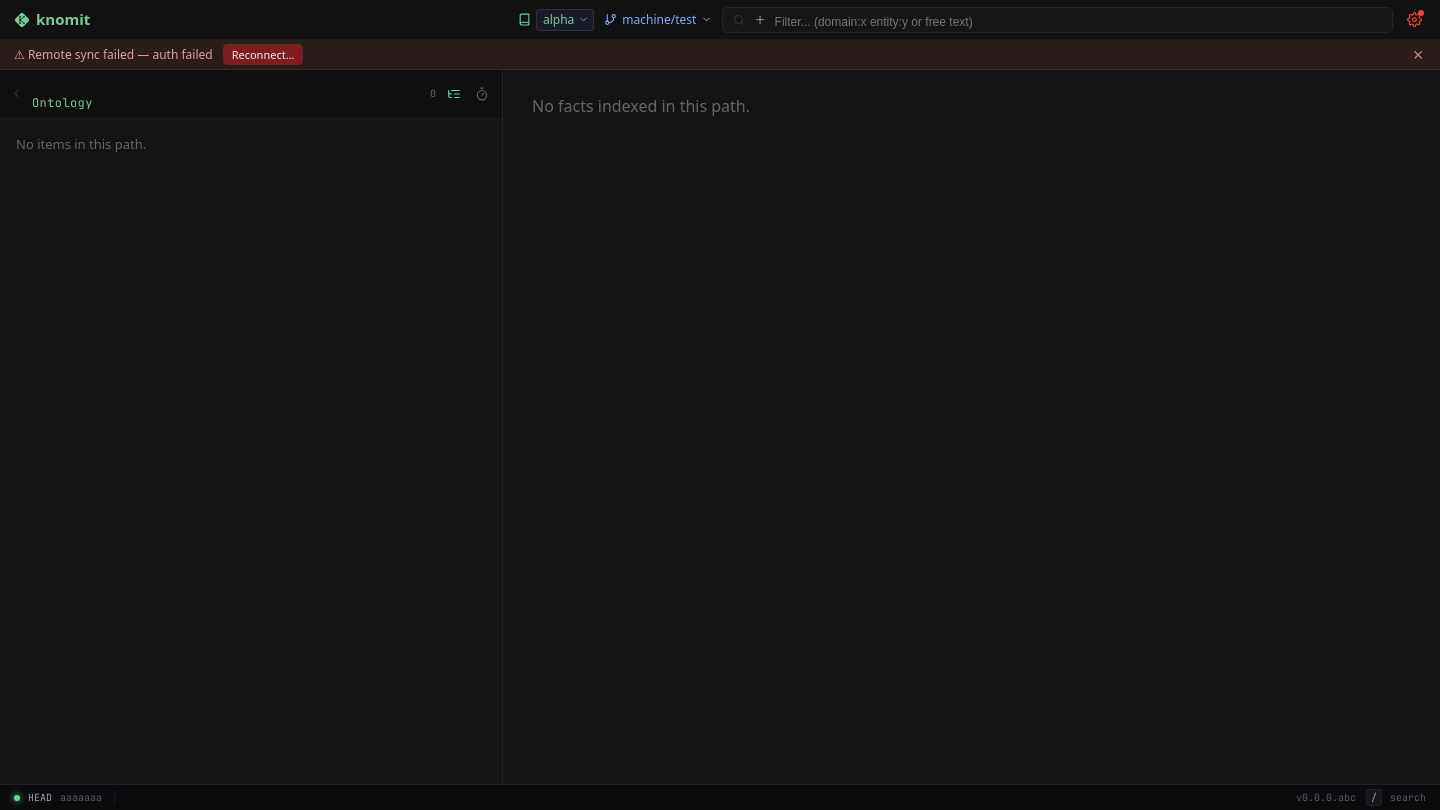
App — remote-error banner lifecycle › the dismiss button clears the banner
Expected: the element with test id "status-footer" is shown, [0,784,1439,809]
Click the button with test id "remote-error-dismiss": click(1418, 54) [1410,48,1426,62]
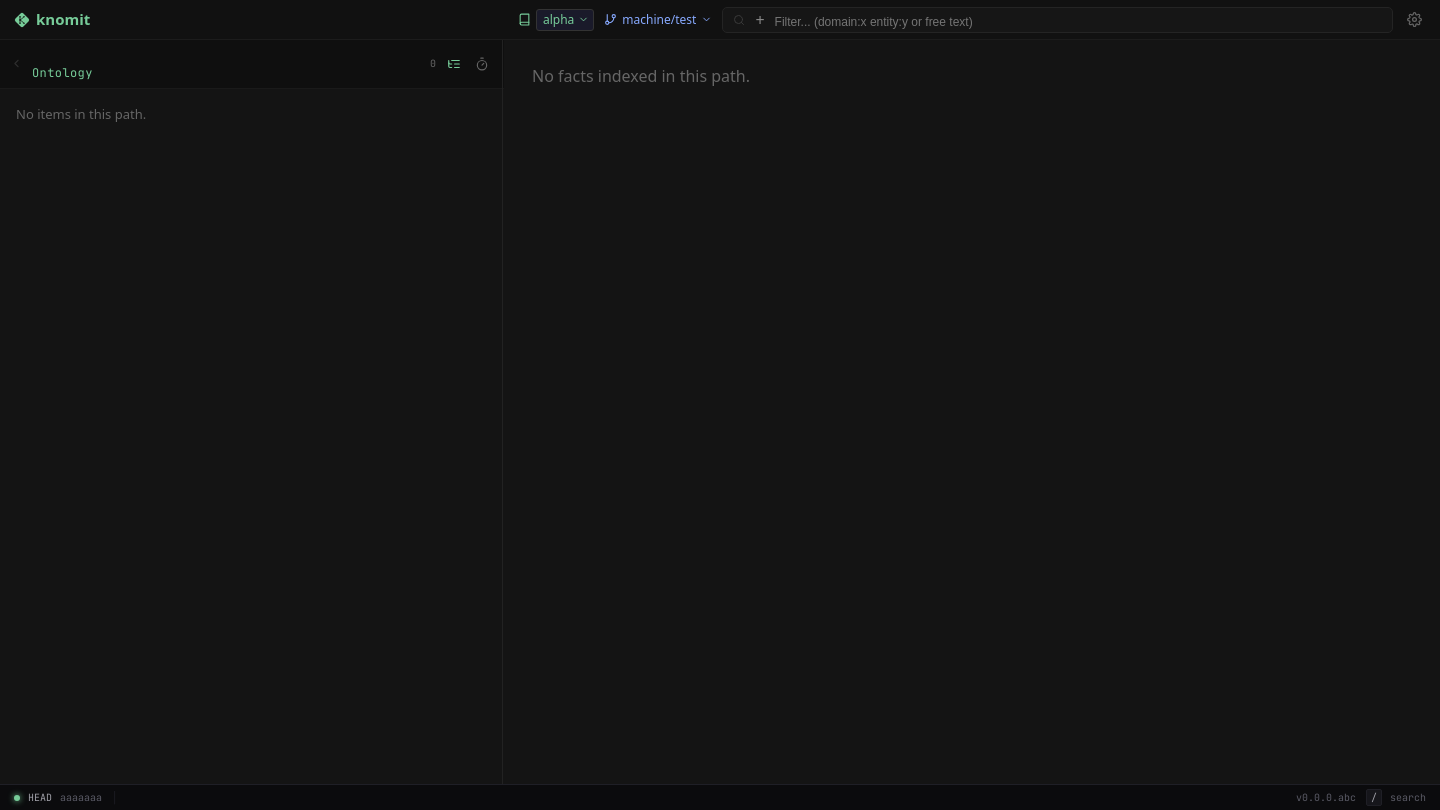
Expected: the element with test id "remote-error-banner" is gone
